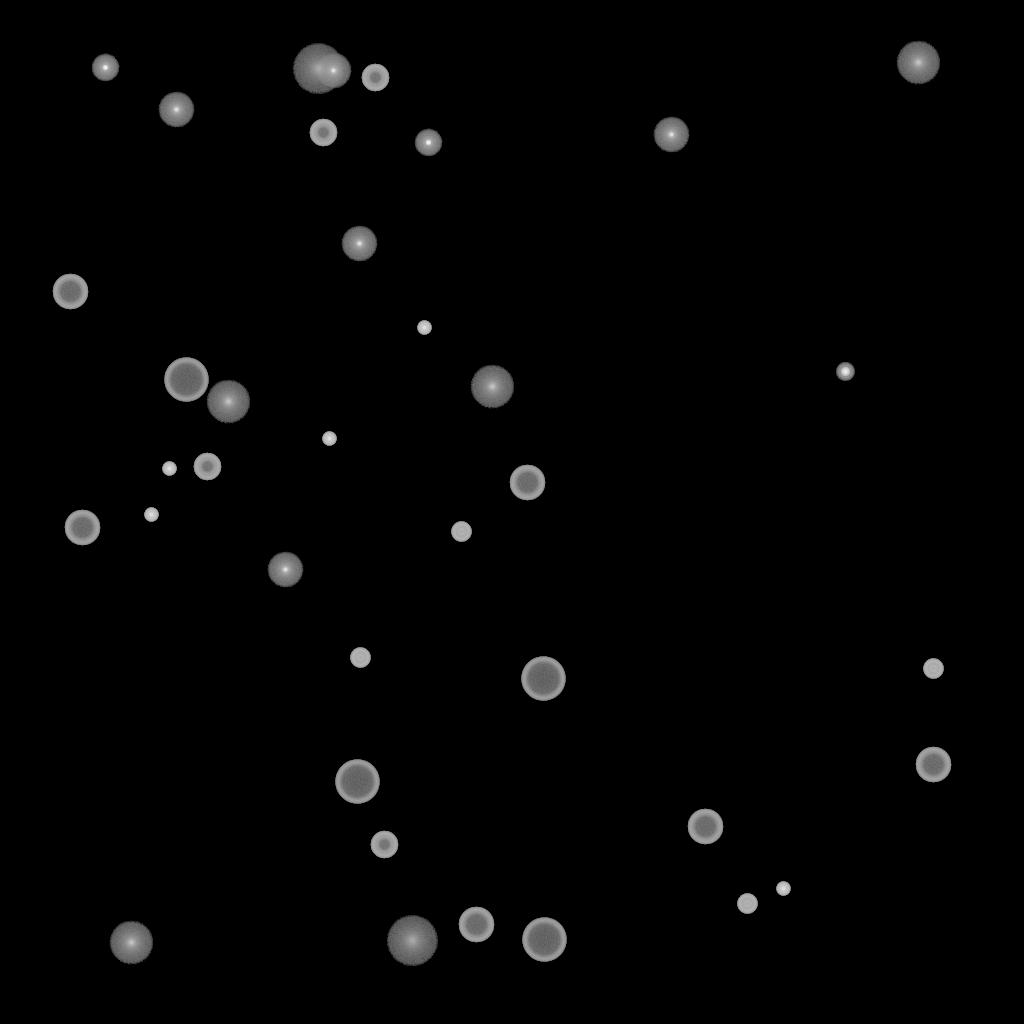depth:-10: (414, 129, 442, 157), (91, 54, 119, 82)
depth:-20: (836, 363, 854, 381)
depth:-30: (417, 321, 431, 335), (144, 508, 158, 522), (776, 882, 790, 896), (162, 462, 176, 476), (322, 432, 336, 446)
depth:-40: (737, 894, 757, 914), (350, 648, 370, 668), (451, 522, 471, 542), (923, 659, 943, 679)
depth:-50: (309, 119, 337, 147), (370, 831, 398, 859), (193, 453, 221, 481), (361, 64, 389, 92)
depth:-60: (52, 274, 88, 310), (915, 747, 951, 783), (509, 465, 545, 501), (64, 510, 100, 546), (687, 809, 723, 845), (458, 907, 494, 943)
depth:-70: (335, 760, 379, 804), (522, 918, 566, 962), (164, 358, 208, 402), (521, 657, 565, 701)
depth:0: (267, 552, 303, 588), (341, 226, 377, 262), (315, 53, 351, 89), (158, 92, 194, 128), (653, 117, 689, 153)
depth:10: (206, 380, 250, 424), (109, 921, 153, 965), (470, 365, 514, 409), (896, 41, 940, 85)
depth:20: (292, 44, 344, 94), (386, 916, 438, 966)
